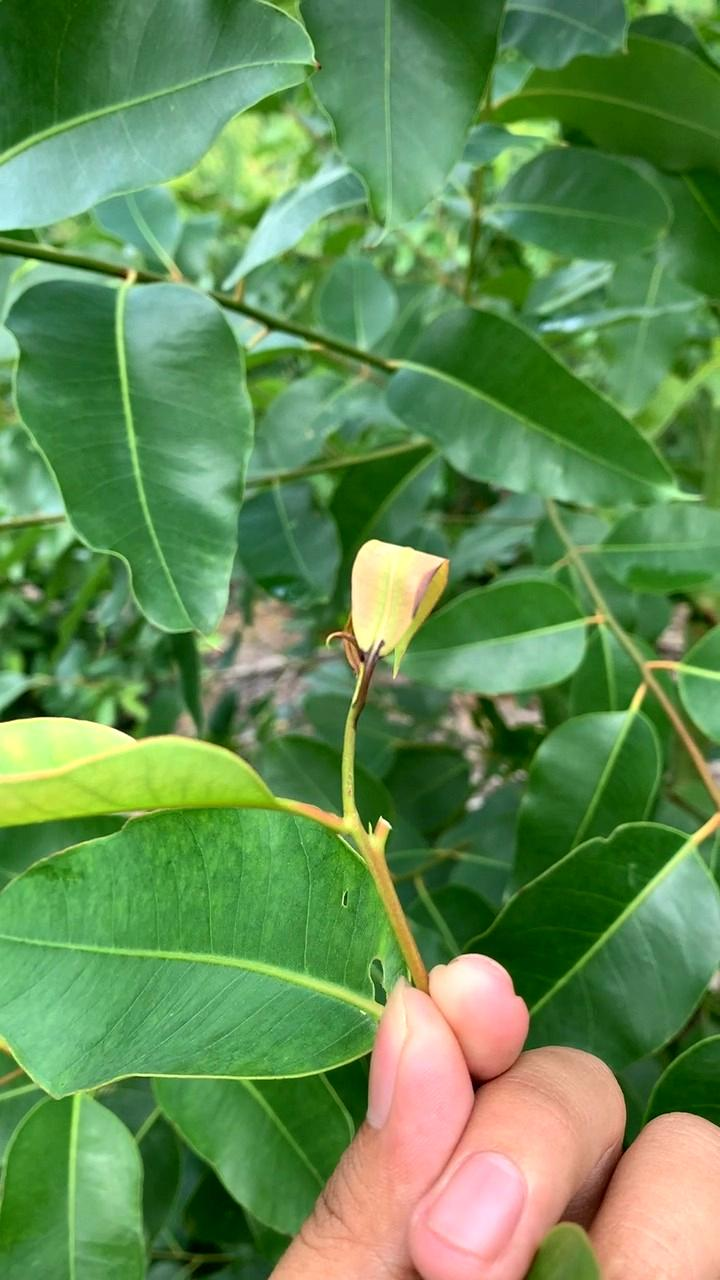Helopeltis-Withered Sprout: (346, 535, 455, 695)
